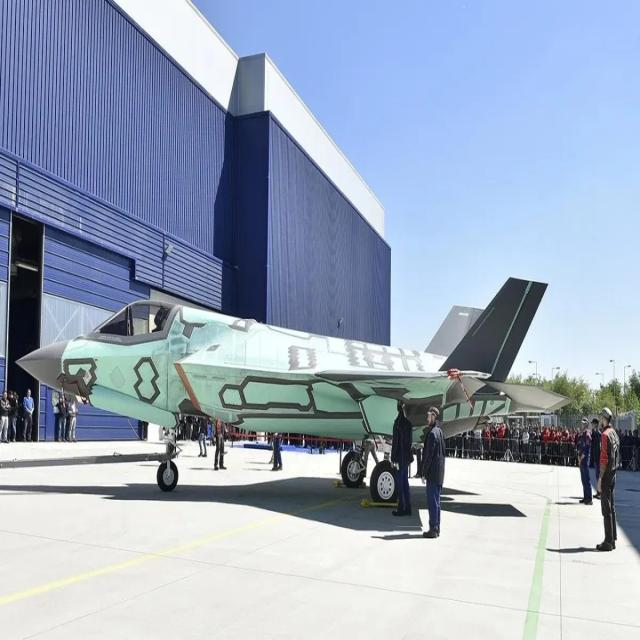MIL_Plane: (14, 276, 574, 507)
